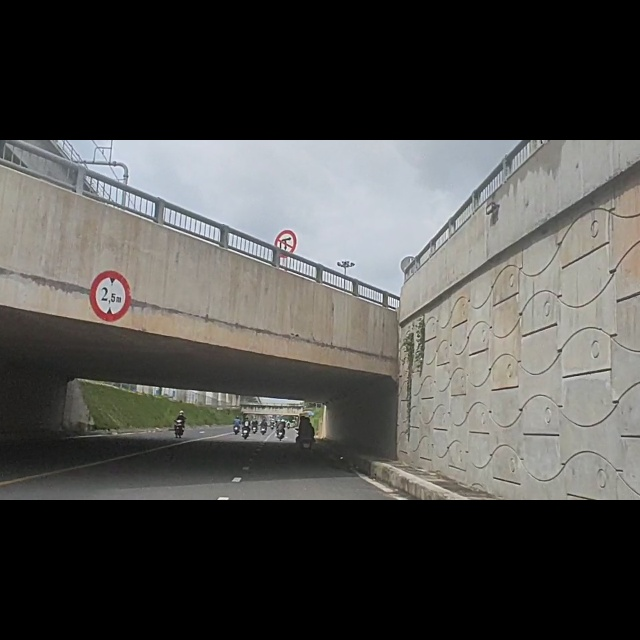bien_cam: (90, 231, 133, 325), (275, 156, 297, 209)
